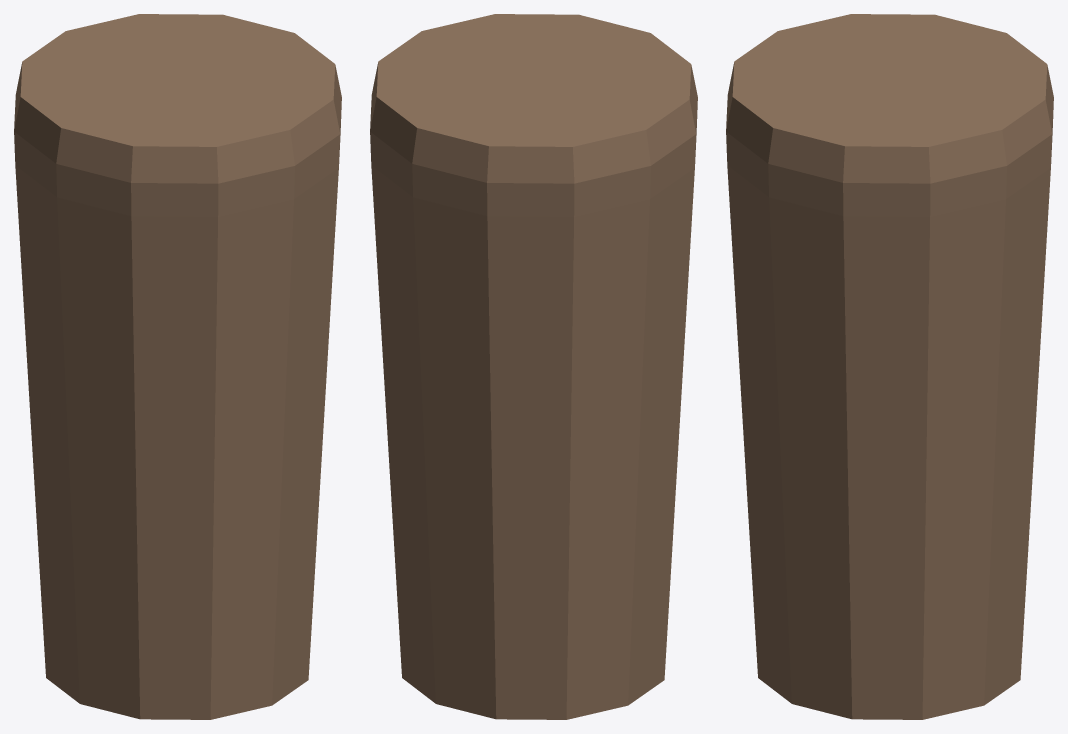
The model's file is WoodPost.fbx.
3 views of the same model, side by side, from view 1: azimuth 30°, elevation 25°; view 2: azimuth 150°, elevation 25°; view 3: azimuth 270°, elevation 25° (orthographic).
Parts seen in each view (by area): view 1: WoodPost; view 2: WoodPost; view 3: WoodPost.
Boxes of the visible parts, x1=… form: WoodPost: x1=14, y1=14, x2=341, y2=719; WoodPost: x1=370, y1=14, x2=697, y2=719; WoodPost: x1=726, y1=14, x2=1053, y2=719.
Bounding box in the file's own units: 0.4897 × 0.9619 × 0.4897.
